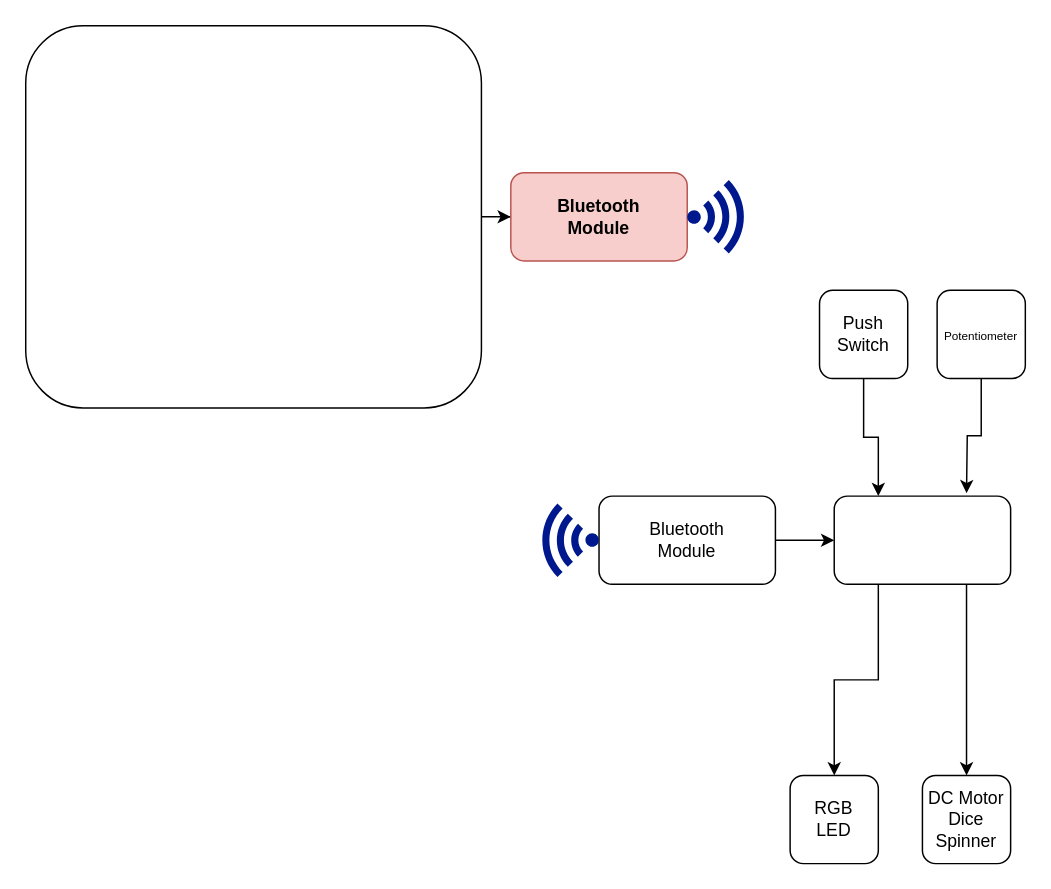
Some shapes in this 1051 by 889 pixel diagram are drawn without their labels. The centre of each missing label's shape, as x and y in pixels:
"Arduino Microcontroller" goes at point (922, 539).
"Mindflex Headset" goes at point (252, 216).
